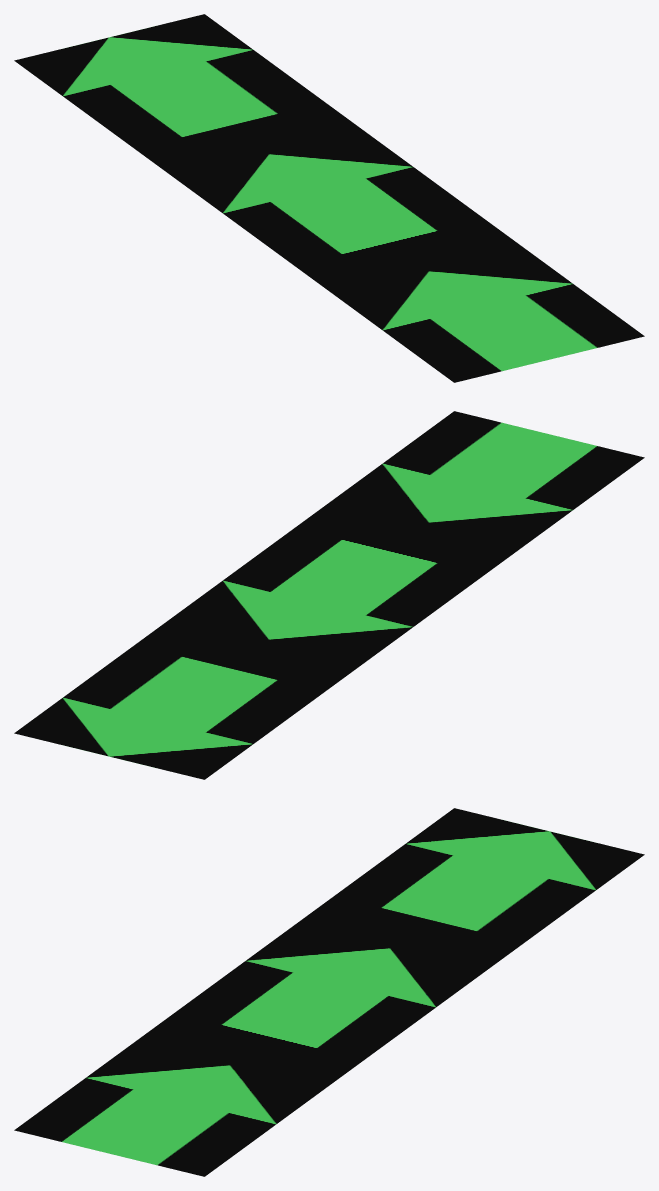
The picture shows the model from 3 angles, top to bottom: view 1: azimuth 30°, elevation 25°; view 2: azimuth 150°, elevation 25°; view 3: azimuth 330°, elevation 25°; orthographic projection.
Parts seen in each view (by area): view 1: Arrow; view 2: Arrow; view 3: Arrow.
Boxes of the visible parts, left/top/right/bottom form: Arrow: left=14, top=14, right=644, bottom=382; Arrow: left=14, top=411, right=644, bottom=779; Arrow: left=14, top=808, right=644, bottom=1176.
Bounding box in the file's own units: 5 × 2.22e-16 × 20.
Materials: 1 (1 with a texture image).
